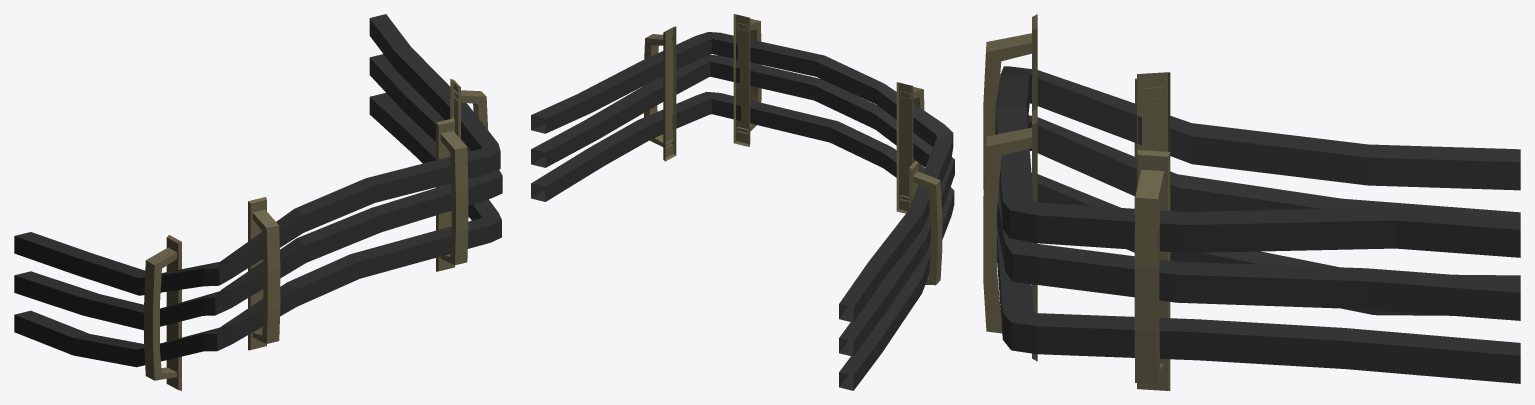
The model's file is SW_ENV_Wires3_StationTunnelWallEnd_04.fbx.
3 renders of one model, left to right at view 1: azimuth 30°, elevation 25°; view 2: azimuth 150°, elevation 25°; view 3: azimuth 270°, elevation 25°, orthographic. The views are drawn at different scales.
Parts seen in each view (by area): view 1: SW_ENV_Wires3_StationTunnelWallEnd_04; view 2: SW_ENV_Wires3_StationTunnelWallEnd_04; view 3: SW_ENV_Wires3_StationTunnelWallEnd_04.
Part boxes in pixels (left/top/right/bottom): SW_ENV_Wires3_StationTunnelWallEnd_04: left=14, top=14, right=502, bottom=390; SW_ENV_Wires3_StationTunnelWallEnd_04: left=531, top=14, right=954, bottom=390; SW_ENV_Wires3_StationTunnelWallEnd_04: left=983, top=14, right=1520, bottom=390.
Size of the model in its own units: 89 by 58.06 by 69.56.
